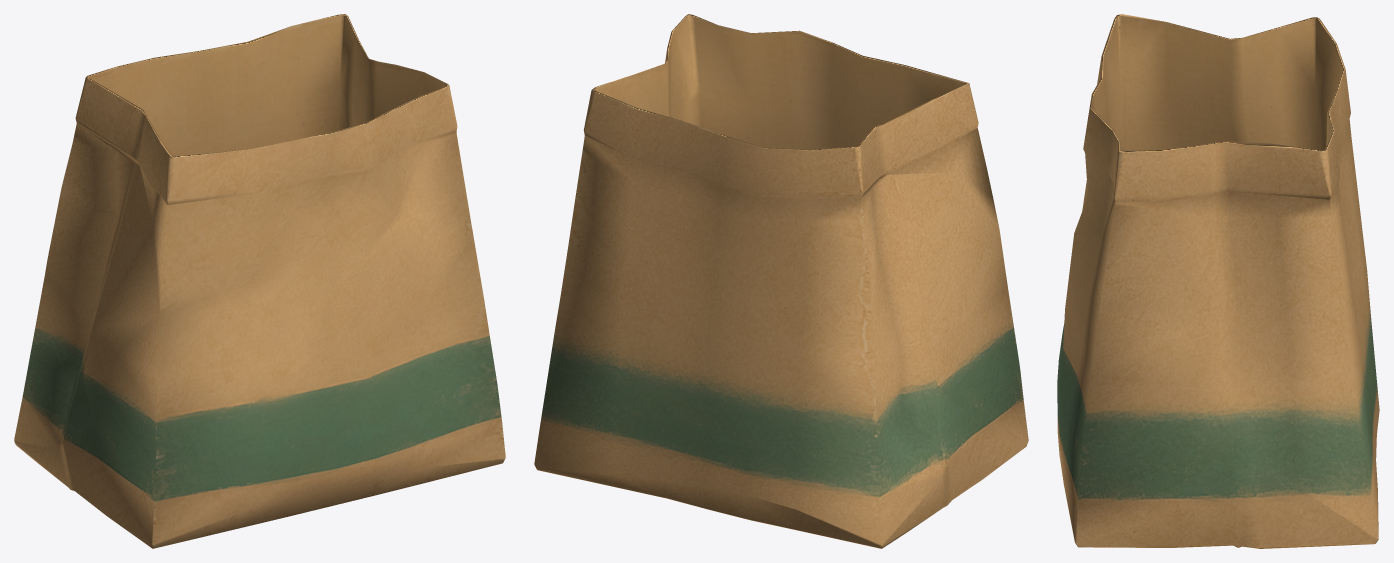
The model's file is P97_burger_paper_bag_Runtime_1k.glb.
The picture shows the model from 3 angles, left to right: view 1: azimuth 30°, elevation 25°; view 2: azimuth 150°, elevation 25°; view 3: azimuth 270°, elevation 25°; orthographic projection. The views are drawn at different scales.
Visible parts, largest first — view 1: tripo_node_043957e1; view 2: tripo_node_043957e1; view 3: tripo_node_043957e1.
Boxes of the visible parts, x1,y1,x2,y2 form: tripo_node_043957e1: (14, 14, 505, 548); tripo_node_043957e1: (534, 14, 1028, 548); tripo_node_043957e1: (1057, 14, 1379, 548).
Bounding box in the file's own units: 0.2215 × 0.22 × 0.1685.
Materials: 1 (1 with a texture image).
